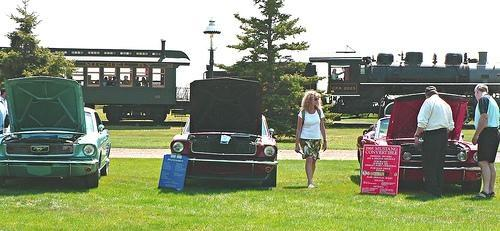car: (354, 89, 482, 194), (1, 76, 112, 189), (170, 77, 277, 187)
